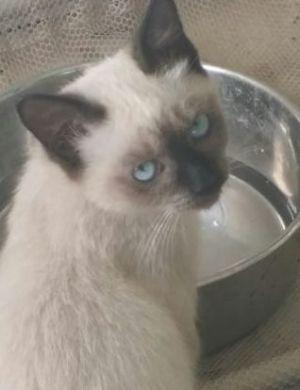siamese: (13, 1, 239, 245)
